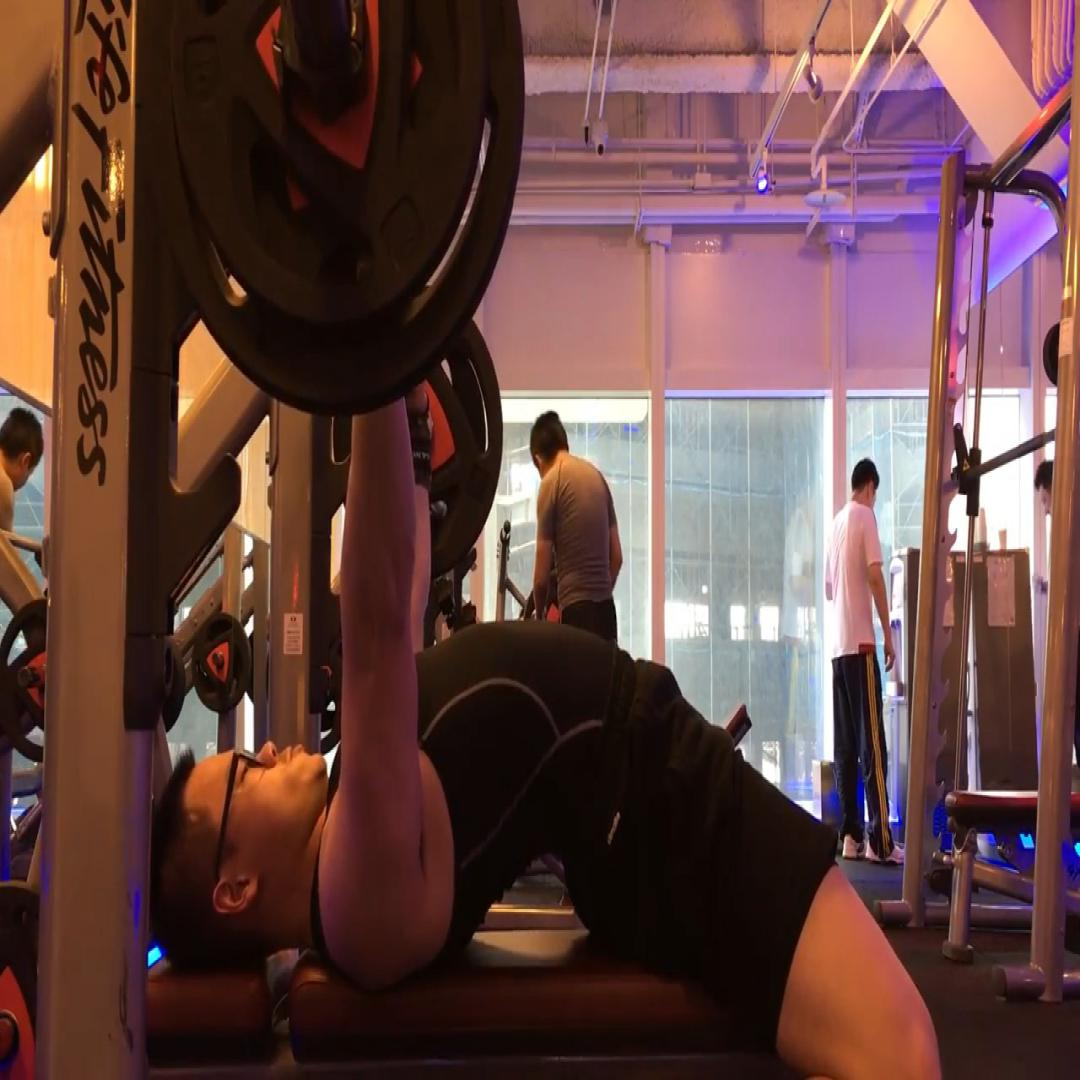Barbell: (134, 0, 528, 420)
